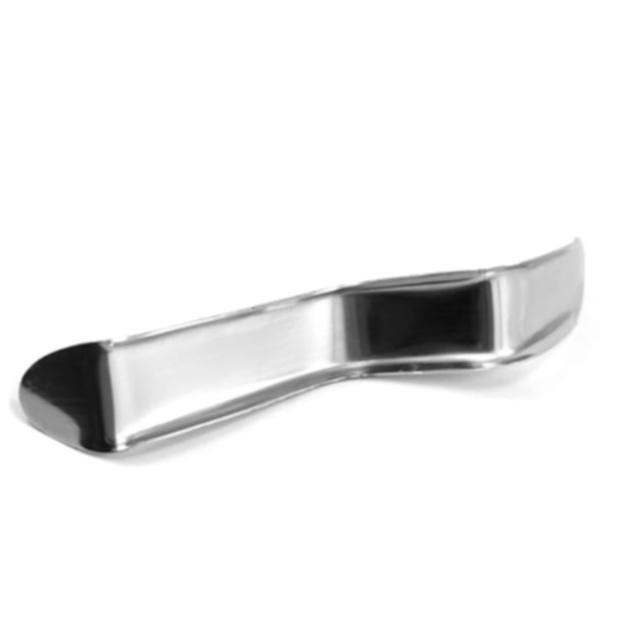separador: (14, 236, 590, 466)
